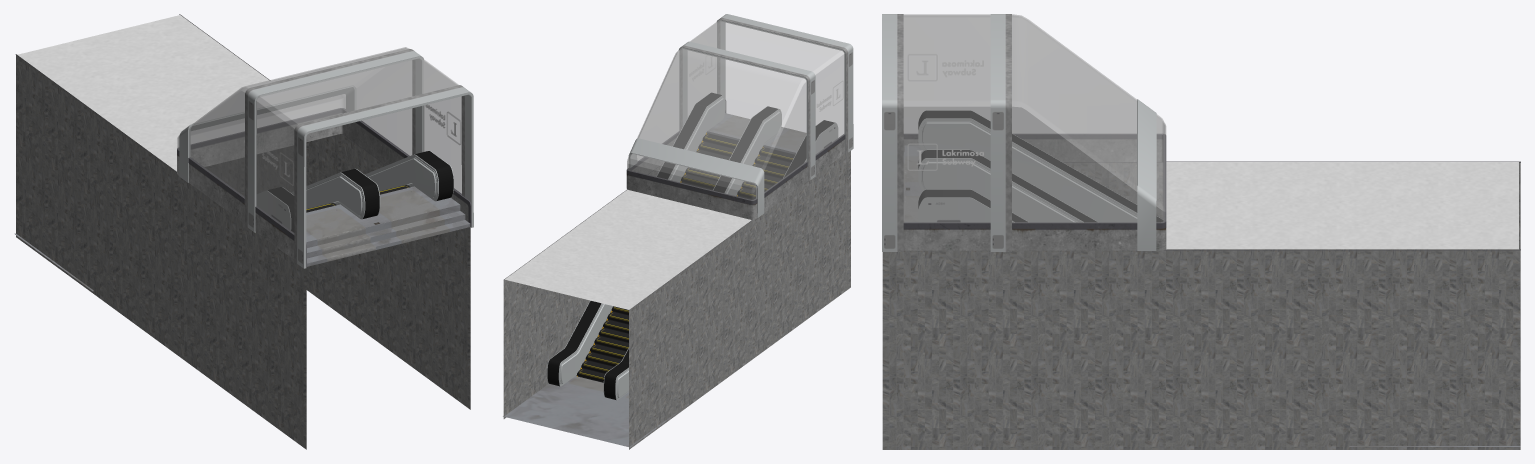
Rendered from entrance.glb.
3 views of the same model, side by side, from view 1: azimuth 30°, elevation 25°; view 2: azimuth 150°, elevation 25°; view 3: azimuth 270°, elevation 25° (orthographic). The views are drawn at different scales.
Parts seen in each view (by area): view 1: Wall, Glass, Floor, Opora_low, Fundament, Steps_low, HandlerLeft_low.001, Handler_Center_low, Opora_low.001, HandlerLeft_low.002, rubber.001, rubber.002; view 2: Wall, Glass, Floor, Opora_low, Floor_Underground, Fundament, Auto_Steps_low, Opora_low.001, HandlerLeft_low.001, rubber.002, Handler_Center_low, rubber.001 (+3 smaller); view 3: Wall, Glass, Floor, Opora_low, Fundament, HandlerLeft_low.001, Handler_Center_low, Opora_low.001, HandlerLeft_low.002, rubber.003, Steps_low, rubber.001 (+2 smaller).
Part boxes in pixels (<box>): Wall: <box>16,15,470,449</box>; Glass: <box>177,47,461,234</box>; Floor: <box>17,15,269,171</box>; Opora_low: <box>244,49,473,268</box>; Fundament: <box>177,108,471,267</box>; Steps_low: <box>306,186,470,266</box>; HandlerLeft_low.001: <box>282,154,438,201</box>; Handler_Center_low: <box>291,168,380,219</box>; Opora_low.001: <box>179,85,355,182</box>; HandlerLeft_low.002: <box>256,150,453,229</box>; rubber.001: <box>341,169,379,218</box>; rubber.002: <box>415,151,453,200</box>; Wall: <box>503,151,850,449</box>; Glass: <box>627,20,844,200</box>; Floor: <box>505,189,751,309</box>; Opora_low: <box>678,14,853,181</box>; Floor_Underground: <box>503,376,689,447</box>; Fundament: <box>626,99,845,219</box>; Auto_Steps_low: <box>577,134,794,382</box>; Opora_low.001: <box>628,138,764,217</box>; HandlerLeft_low.001: <box>558,95,823,386</box>; rubber.002: <box>547,92,721,386</box>; Handler_Center_low: <box>603,107,781,400</box>; rubber.001: <box>604,106,777,399</box>; Wall: <box>882,162,1520,449</box>; Glass: <box>903,14,1166,222</box>; Floor: <box>1166,162,1518,249</box>; Opora_low: <box>882,14,1011,251</box>; Fundament: <box>903,134,1166,250</box>; HandlerLeft_low.001: <box>918,118,1137,222</box>; Handler_Center_low: <box>918,149,1095,222</box>; Opora_low.001: <box>1137,99,1156,250</box>; HandlerLeft_low.002: <box>918,110,1159,222</box>; rubber.003: <box>918,110,1163,222</box>; Steps_low: <box>903,145,922,222</box>; rubber.001: <box>918,150,1096,222</box>.
Size of the model in its own units: 4.66 by 8.51 by 13.85.
1 material, 1 textured.
